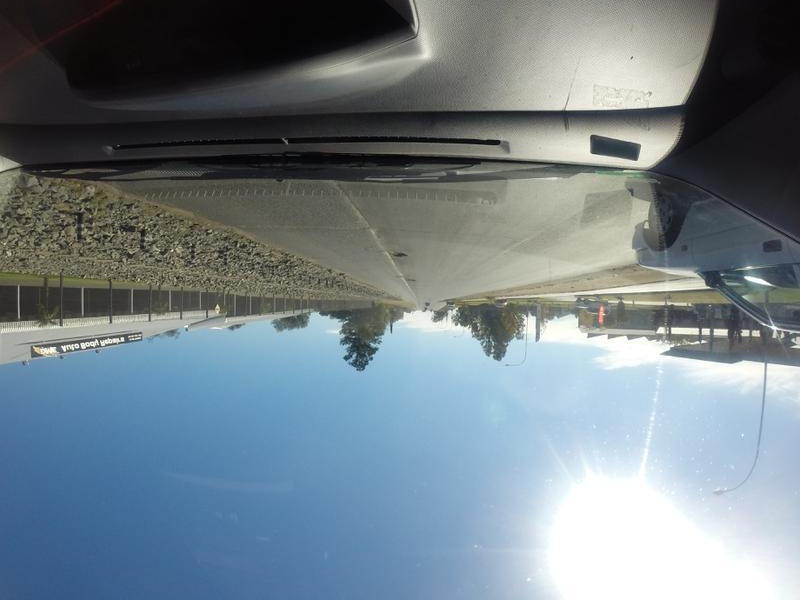pothole: (387, 252, 412, 257), (404, 278, 422, 282)
